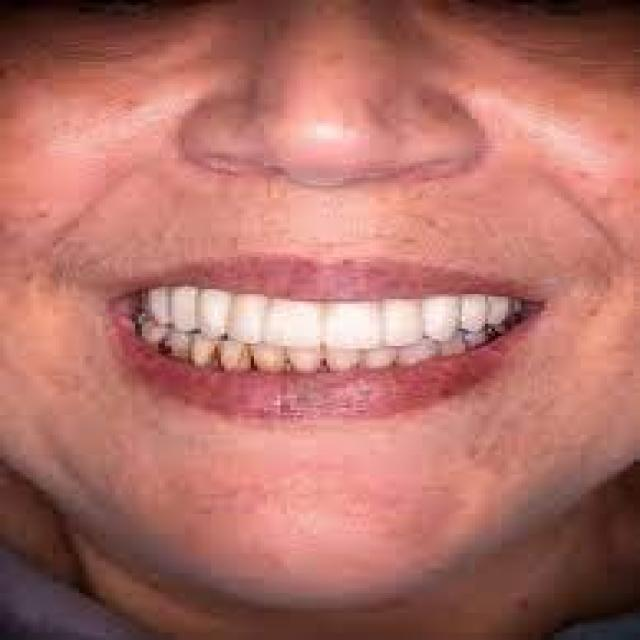tooth: (271, 299, 320, 353), (324, 304, 379, 351), (221, 296, 267, 344), (382, 294, 426, 341), (171, 284, 208, 334), (422, 294, 459, 341), (195, 287, 228, 336), (215, 344, 258, 378), (188, 344, 231, 376), (128, 319, 162, 356), (284, 351, 326, 380), (148, 282, 175, 326), (492, 294, 521, 334), (162, 336, 198, 366), (366, 354, 406, 376), (389, 344, 432, 364), (465, 294, 485, 336), (326, 353, 359, 378), (257, 353, 284, 371), (435, 338, 472, 351)
